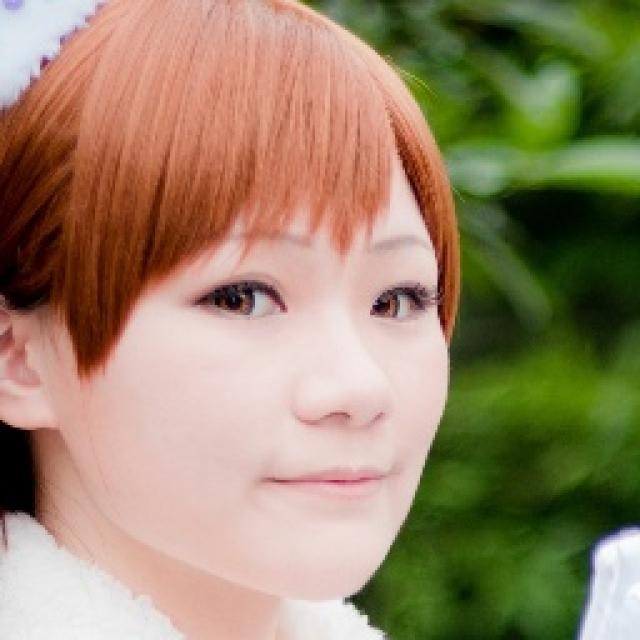earlobe: (0, 275, 55, 430)
